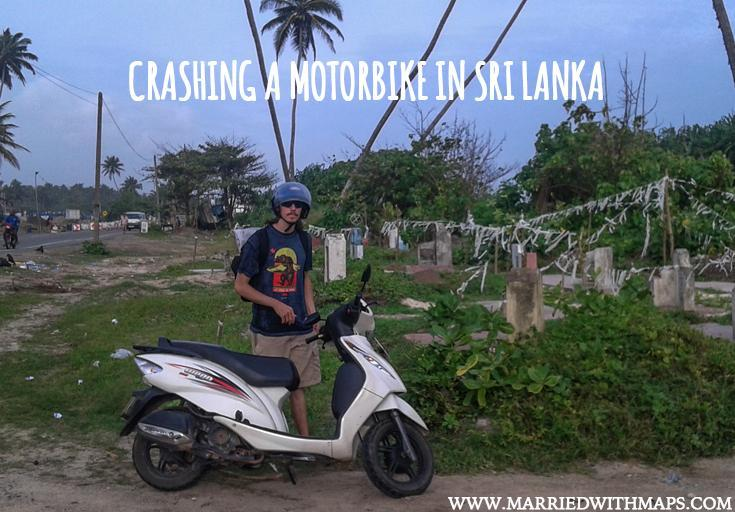motorbike: (118, 262, 433, 497)
